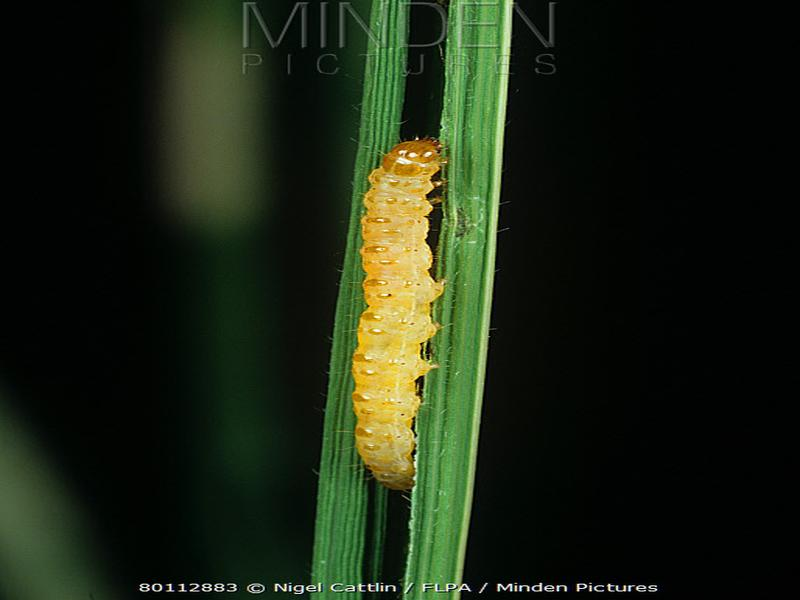Leaf_folder: (337, 127, 457, 504)
